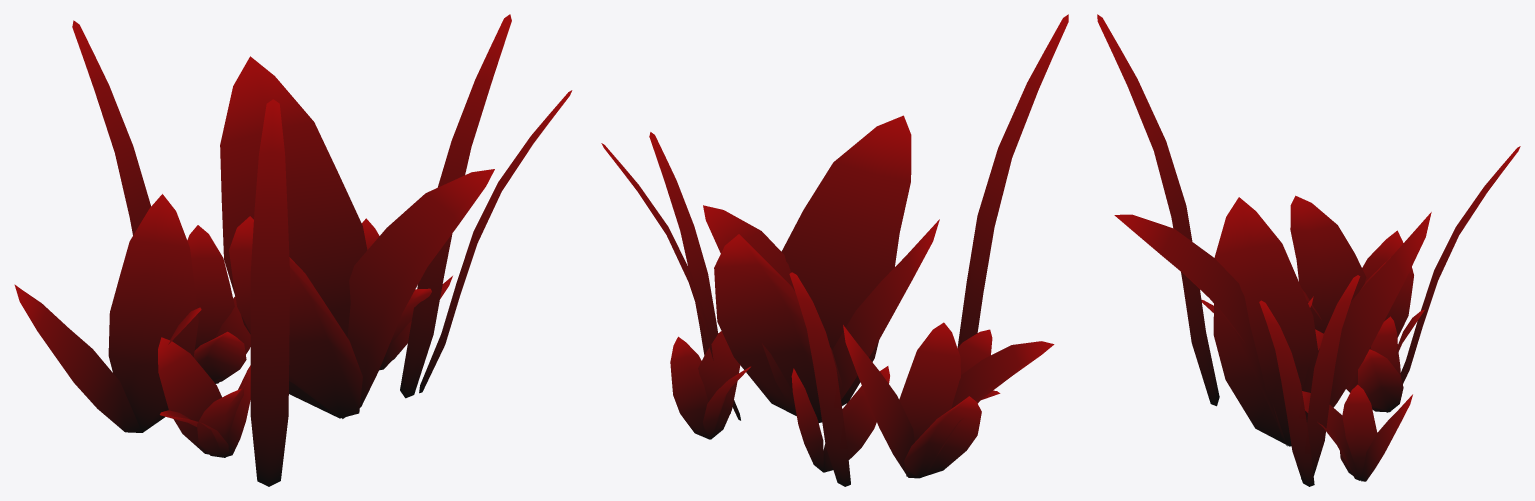
File: game_grass1_LOD0.fbx
3 renders of one model, left to right at view 1: azimuth 30°, elevation 25°; view 2: azimuth 150°, elevation 25°; view 3: azimuth 270°, elevation 25°, orthographic. The views are drawn at different scales.
Visible parts, largest first — view 1: Plane.019; view 2: Plane.019; view 3: Plane.019.
Boxes of the visible parts, bbox=[...] form: Plane.019: bbox=[14, 14, 572, 486]; Plane.019: bbox=[601, 14, 1068, 486]; Plane.019: bbox=[1097, 14, 1520, 486].
Bounding box in the file's own units: 5.69 × 4.9 × 5.15.
